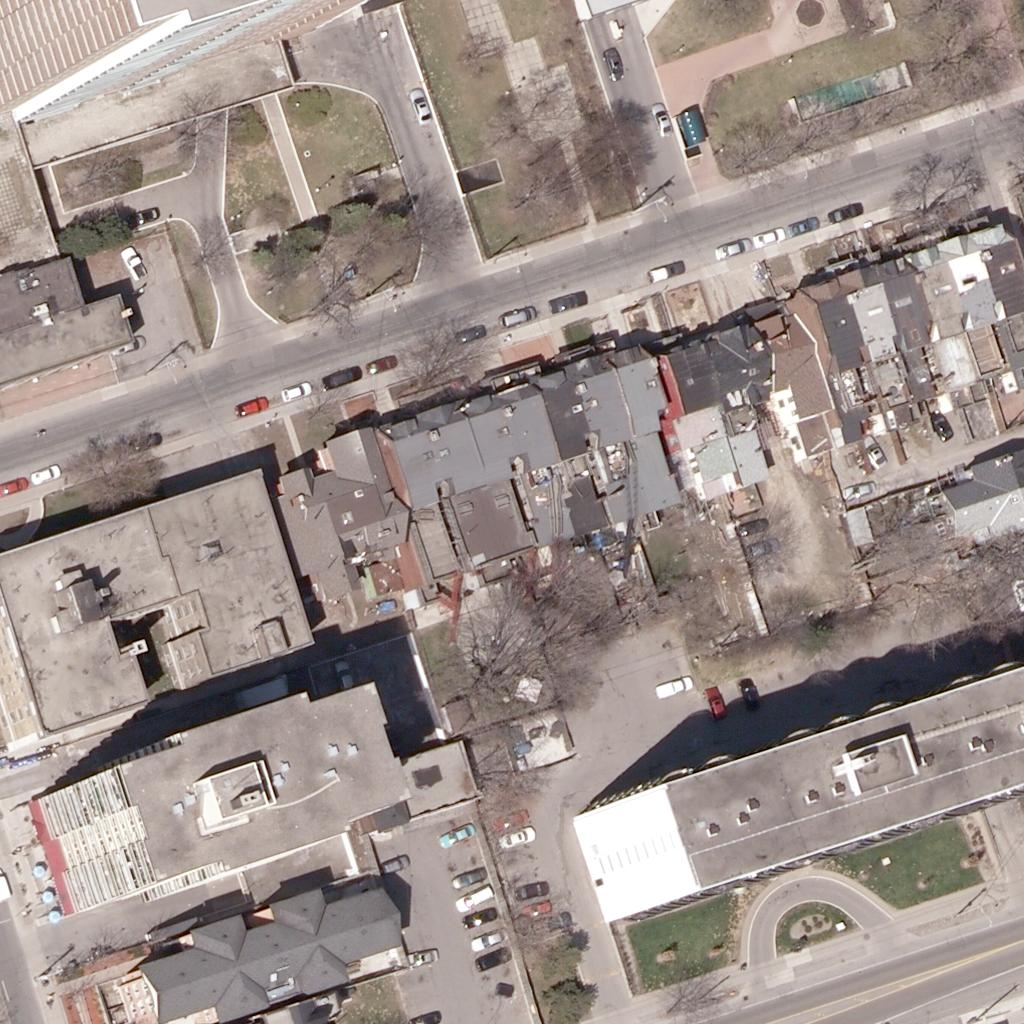car: (599, 45, 633, 79), (405, 89, 439, 123), (645, 103, 679, 137), (830, 195, 864, 229), (127, 197, 161, 231), (785, 208, 819, 242), (750, 218, 784, 252), (718, 230, 752, 264), (116, 242, 150, 276), (653, 251, 687, 285), (548, 284, 582, 318), (499, 300, 533, 334), (453, 315, 487, 349), (364, 346, 398, 380), (324, 359, 358, 393), (278, 373, 312, 407), (234, 387, 268, 421), (926, 409, 960, 443), (126, 424, 160, 458), (859, 433, 893, 467), (27, 457, 61, 491), (842, 472, 876, 506), (735, 507, 769, 541), (742, 529, 776, 563), (328, 661, 362, 695), (661, 667, 695, 701), (732, 674, 766, 708), (699, 687, 733, 721), (495, 802, 529, 836), (444, 816, 478, 850), (502, 819, 536, 853), (375, 846, 409, 880), (455, 858, 489, 892), (458, 880, 492, 914), (464, 898, 498, 932), (535, 904, 569, 938), (471, 920, 505, 954), (405, 940, 439, 974), (480, 940, 514, 974), (0, 470, 30, 504), (409, 1003, 443, 1024), (1004, 574, 1024, 608), (0, 865, 16, 899)
